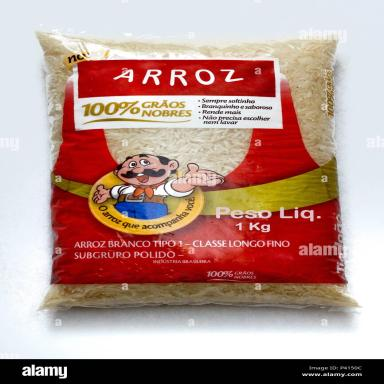rice package: (38, 32, 356, 308)
